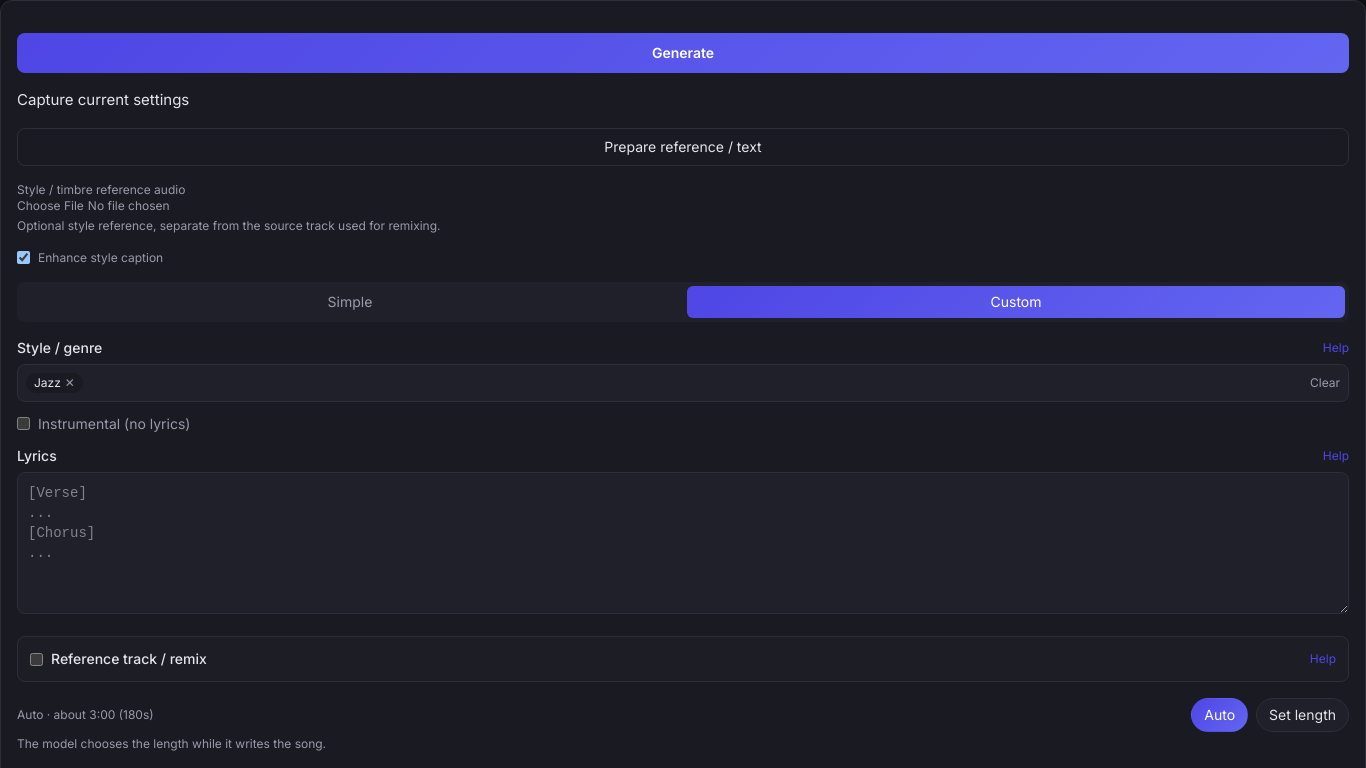
checks status again before generation and blocks an externally changed adapter with a visible error
Click the button "Generate".
click(683, 53)  # box 17,33 -> 1349,73
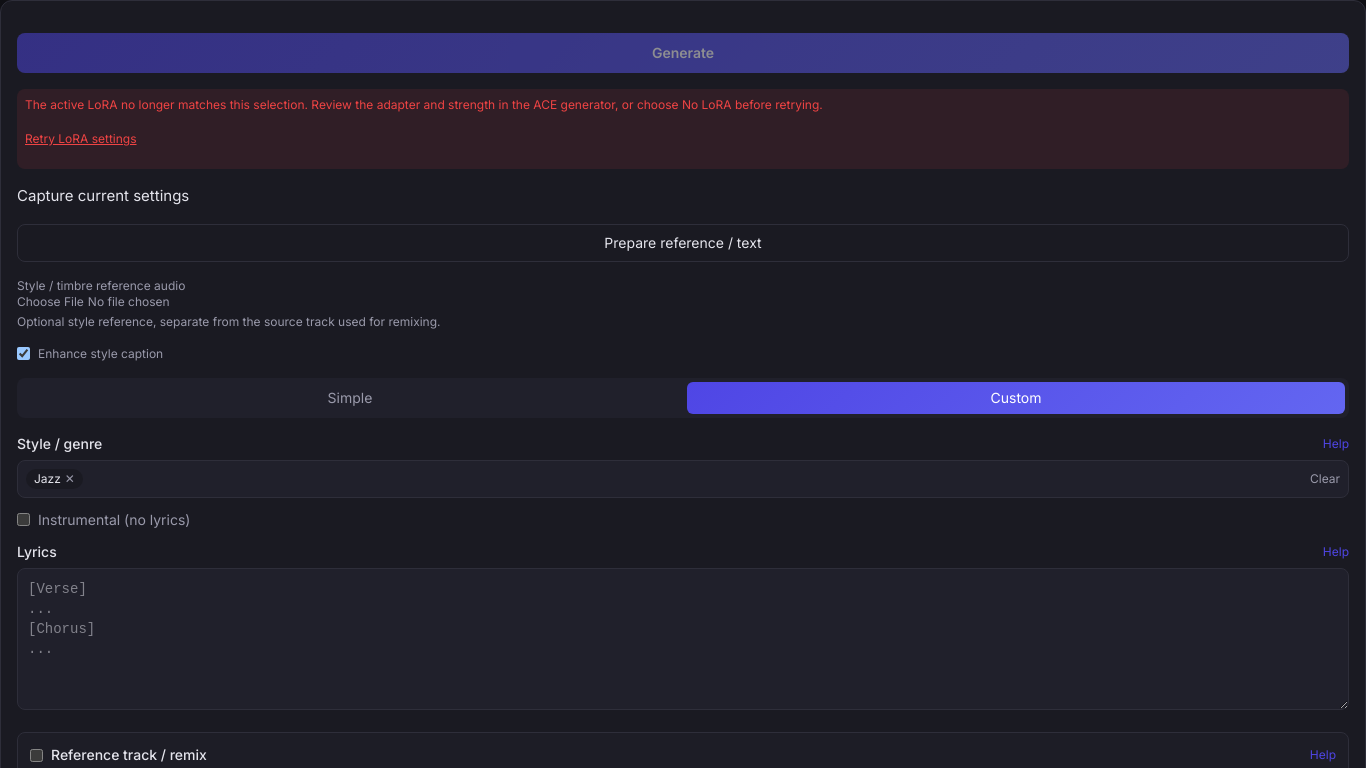
expect the message shows "no longer matches this selection": met, box 25,97 -> 823,112
